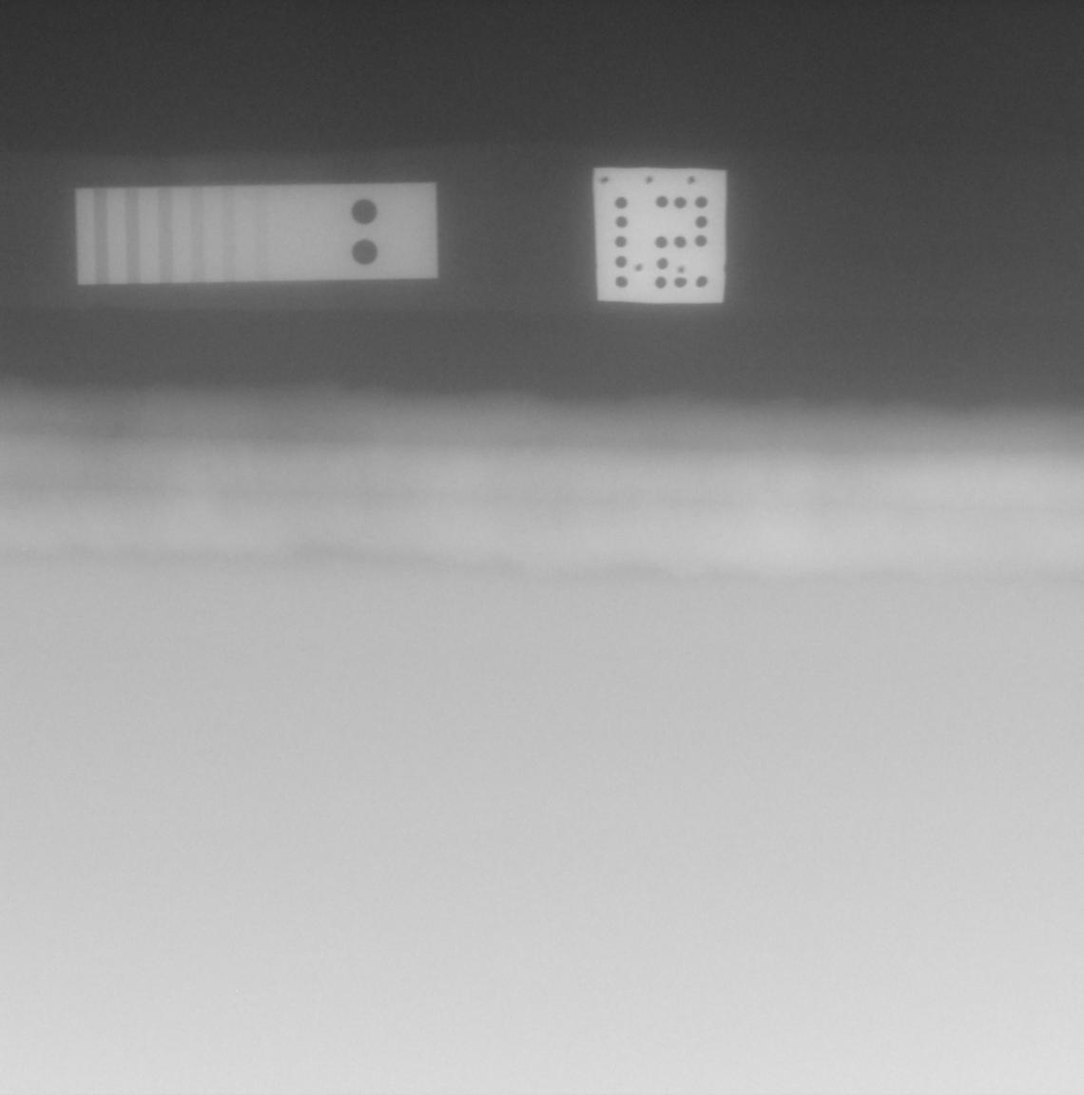Reference Standard 2: (74, 182, 437, 286)
